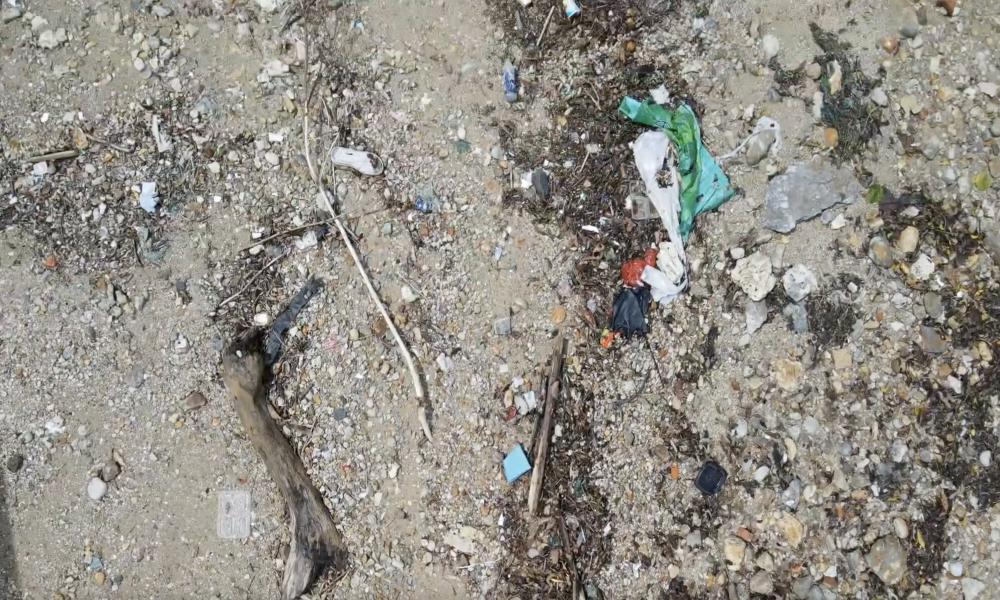plastic bag: (619, 94, 733, 247), (633, 130, 688, 308)
plastic bottle: (500, 57, 517, 102)
plastic container: (217, 491, 251, 540)
